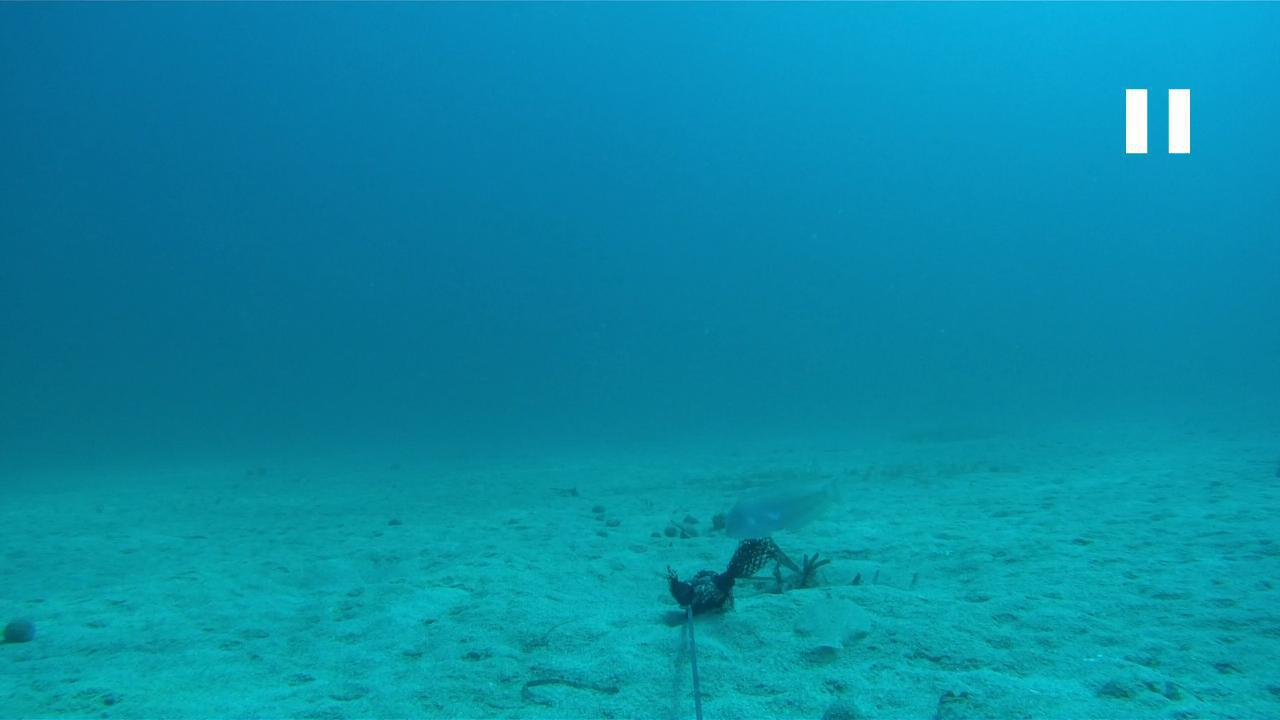bothus: (786, 588, 877, 662)
raor: (720, 474, 841, 546)
